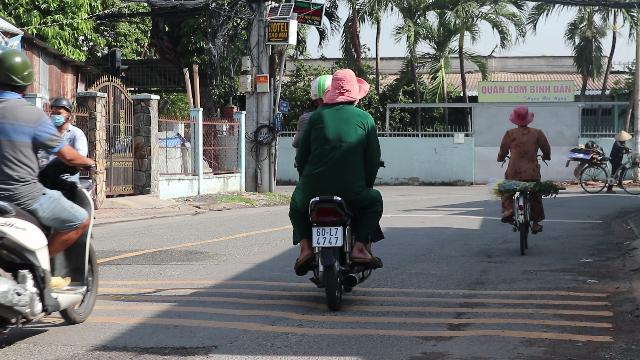helmet: (0, 48, 36, 99), (309, 73, 333, 107), (48, 96, 72, 126)
licenseplate: (314, 226, 342, 246)
motorcyclist: (0, 44, 104, 348), (282, 68, 390, 305)
nohelmet: (323, 68, 369, 108)
